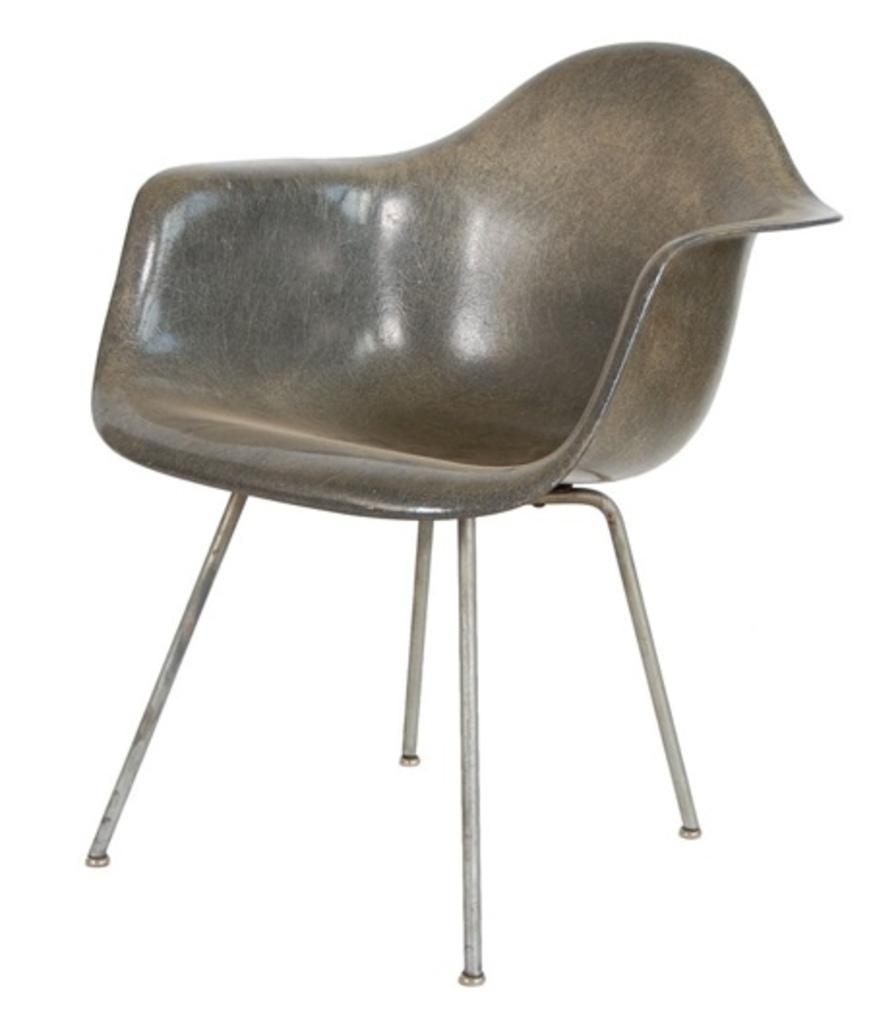Chair: (56, 48, 834, 1007)
